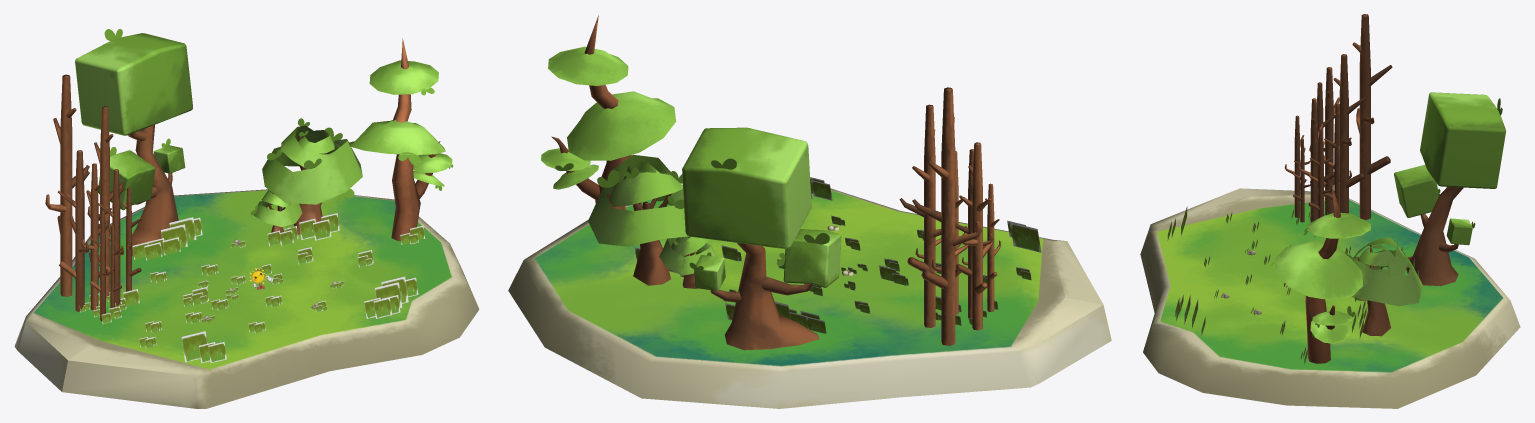
The model's file is Concept3D_IsleBooTrees_ImportUnity.fbx.
3 renders of one model, left to right at view 1: azimuth 30°, elevation 25°; view 2: azimuth 150°, elevation 25°; view 3: azimuth 270°, elevation 25°, orthographic. The views are drawn at different scales.
Parts seen in each view (by area): view 1: SM_Isle, Tree_Cube1, Tree_Truckful8, pCylinder76 (×2), Tree_Truckful9, Tree_Truckful10, pDisc3, pCylinder50, pDisc4, pCylinder77, pCylinder78, pDisc2 (+2 smaller); view 2: SM_Isle, Tree_Cube1, Tree_Truckful8, pDisc3, pCylinder76 (×2), Tree_Truckful9, pDisc4, Tree_Truckful10, pCylinder77, pCylinder70, pCylinder50, pDisc2 (+2 smaller); view 3: SM_Isle, Tree_Cube1, Tree_Truckful8, pDisc3, Tree_Truckful9, pCylinder76, Tree_Truckful10, pCylinder50, pDisc4, pCylinder70, pCylinder77, pDisc1 (+2 smaller).
Boxes of the visible parts, box(x1,y1,x2,y2) form: SM_Isle: box(14, 189, 479, 408); Tree_Cube1: box(75, 33, 192, 256); Tree_Truckful8: box(45, 74, 111, 311); pCylinder76 (×2): box(254, 139, 362, 227); Tree_Truckful9: box(87, 106, 142, 306); Tree_Truckful10: box(81, 163, 123, 321); pDisc3: box(348, 120, 445, 154); pCylinder50: box(391, 38, 420, 241); pDisc4: box(369, 60, 438, 94); pCylinder77: box(280, 125, 340, 167); pCylinder78: box(298, 130, 334, 153); pDisc2: box(413, 153, 452, 173); SM_Isle: box(508, 184, 1111, 408); Tree_Cube1: box(682, 127, 841, 350); Tree_Truckful8: box(912, 87, 993, 345); pDisc3: box(567, 91, 676, 160); pCylinder76 (×2): box(588, 154, 717, 275); Tree_Truckful9: box(899, 104, 967, 327); pDisc4: box(548, 46, 628, 85); Tree_Truckful10: box(955, 149, 1001, 318); pCylinder77: box(608, 171, 682, 206); pCylinder70: box(633, 201, 670, 285); pCylinder50: box(584, 15, 631, 209); pDisc2: box(541, 148, 590, 171); SM_Isle: box(1140, 188, 1520, 408); Tree_Cube1: box(1394, 92, 1505, 286); Tree_Truckful8: box(1309, 14, 1392, 219); pDisc3: box(1275, 240, 1362, 300); Tree_Truckful9: box(1297, 54, 1366, 222); pCylinder76: box(1346, 250, 1422, 306); Tree_Truckful10: box(1284, 82, 1334, 222); pCylinder50: box(1305, 184, 1340, 363); pDisc4: box(1307, 212, 1371, 238); pCylinder70: box(1362, 300, 1391, 336); pCylinder77: box(1353, 238, 1407, 276); pDisc1: box(1310, 321, 1350, 343).
Size of what is drawn, in the model's own units: 17.18 by 9.32 by 13.95.
